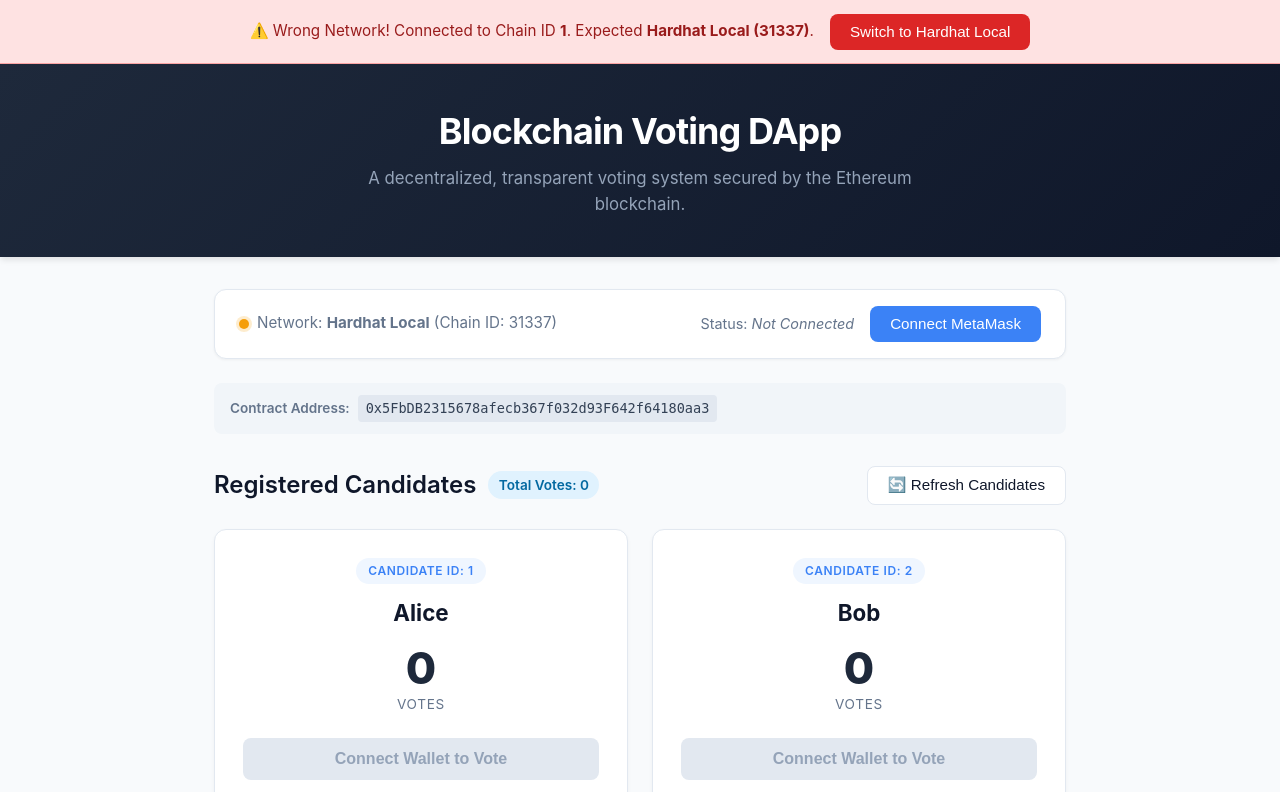
Voting DApp UI & Integration Tests › 2. Shows Wrong Network banner even before connecting, loads candidates via local RPC, and switches network on click
Expected: the text "Wrong Network!" is shown, [250,21,560,40]
Expected: the heading "Alice" is shown, [393,596,449,630]
Click the button "Switch to Hardhat Local" at (930, 32), box [830,14,1030,50]
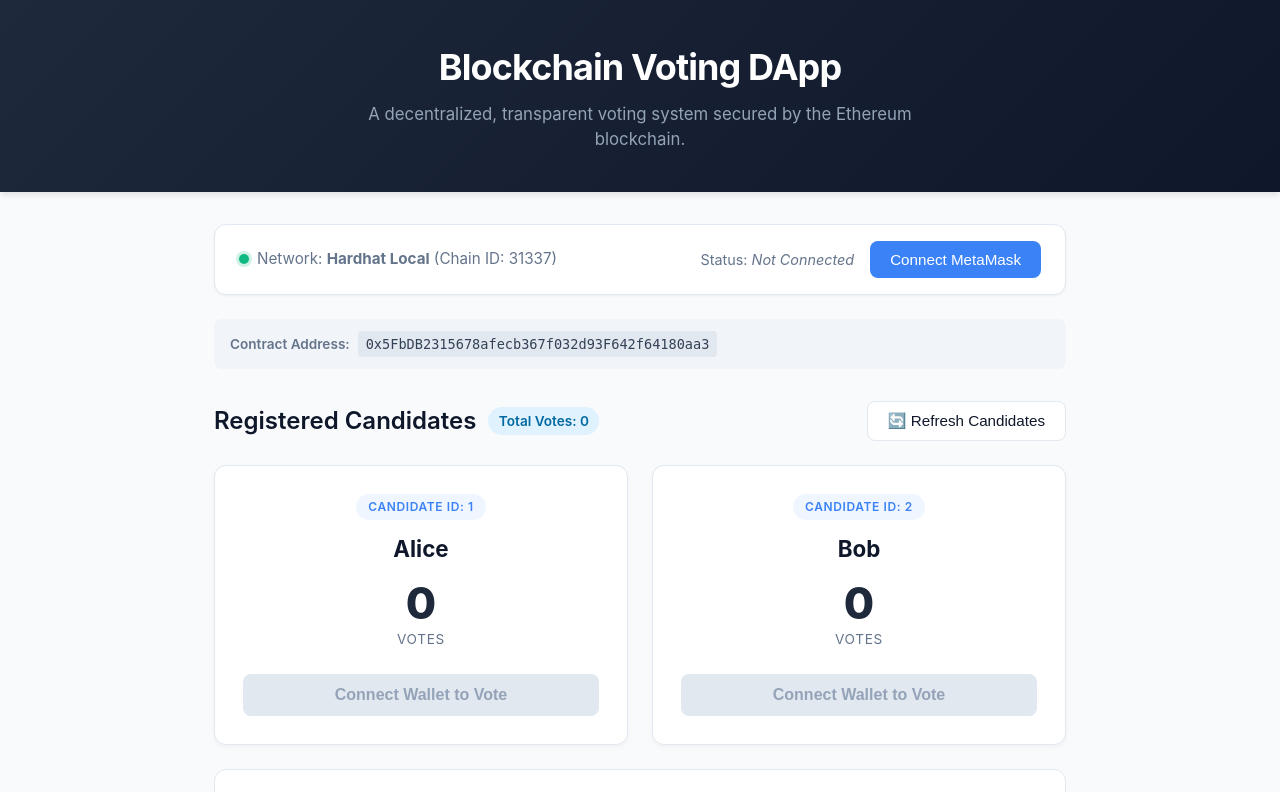
Result: the text "Wrong Network!" is gone
